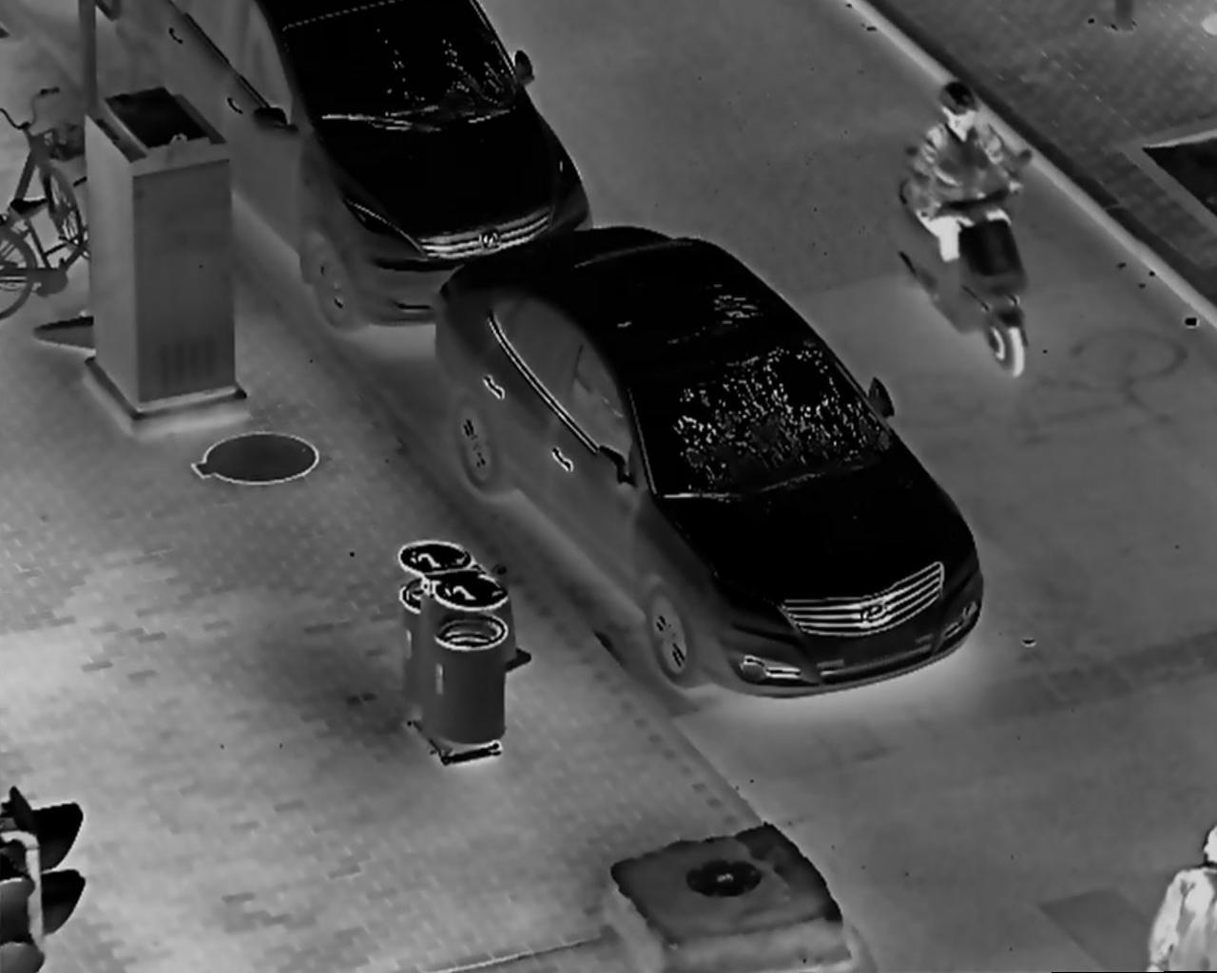person: (905, 81, 1032, 302), (1134, 807, 1217, 973)
